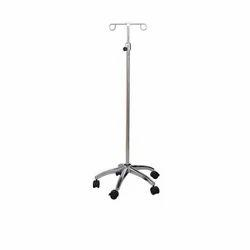Saline Stand: (91, 21, 160, 199)
